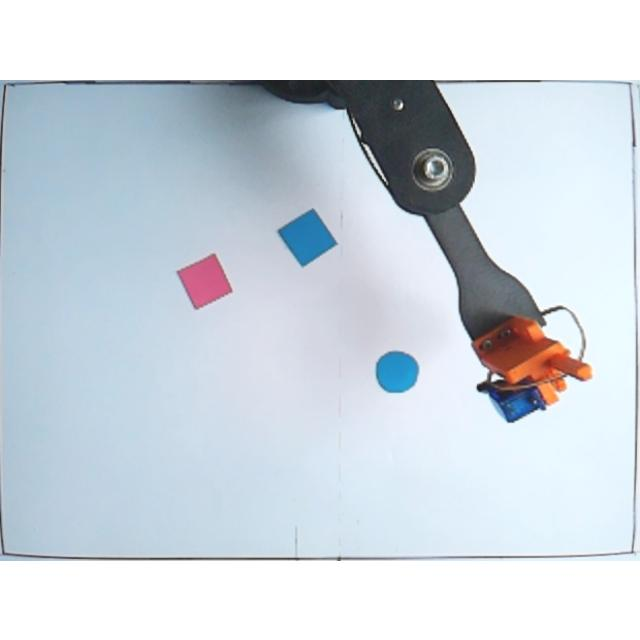blueCircle: (372, 346, 422, 396)
blueSquare: (277, 208, 339, 266)
pinkSquare: (175, 250, 237, 310)
